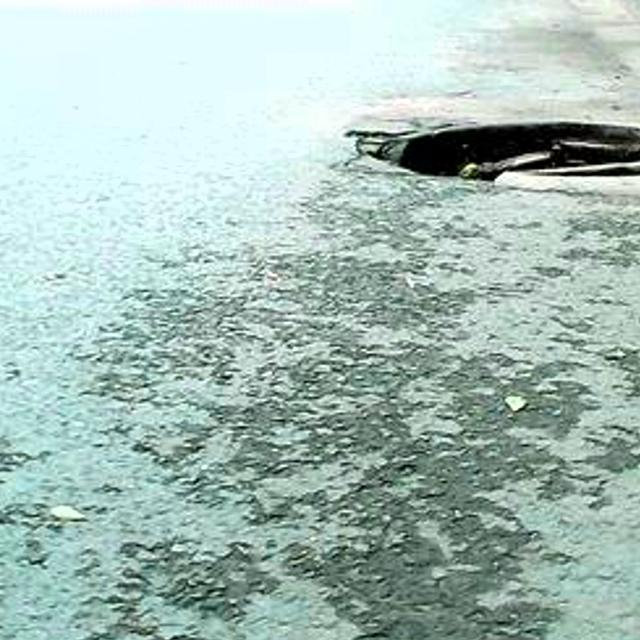broke: (283, 80, 640, 233)
